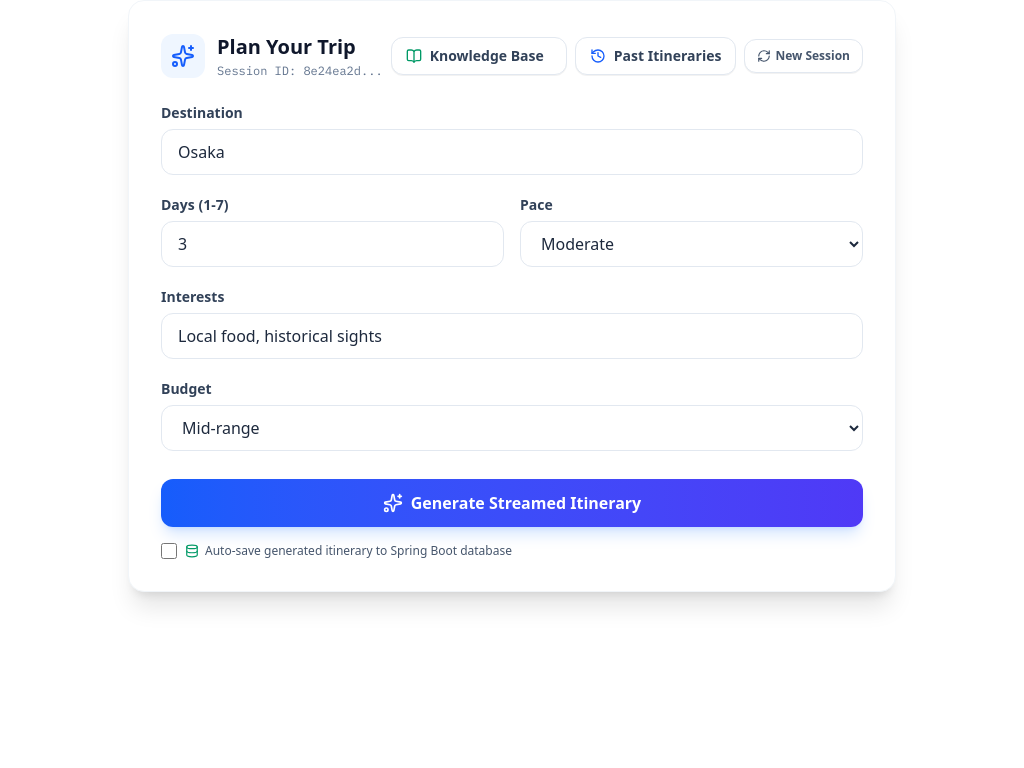
it: ItineraryForm Component › Form Submission (handleSubmit) & SSE Streaming › submits form data, sends POST request to API, and streams formatted itinerary text
What coordinates should you click on to do the following:
click the button "Generate Streamed Itinerary"
I would click on:
 (512, 503)
Its box is [161,479,863,527].
(page scrolled)
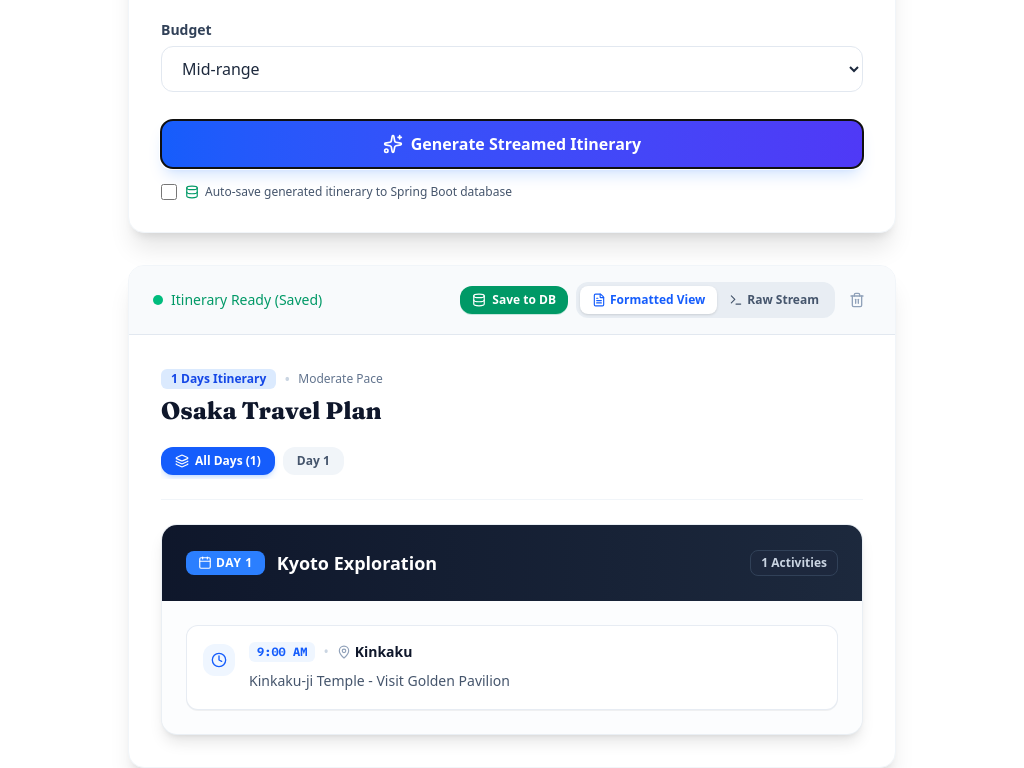
Expected: the text "Kinkaku-ji Temple - Visit Golden Pavilion" is shown, [249,671,510,690]
